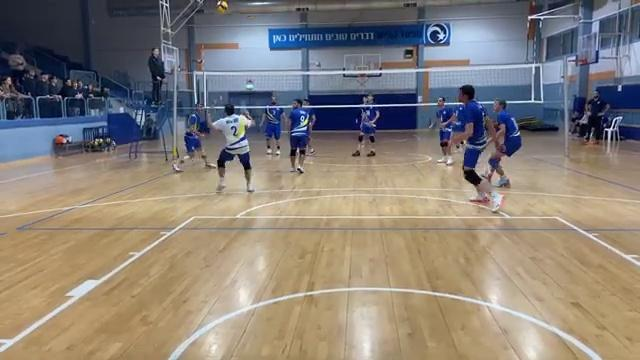ball: (216, 2, 230, 15)
